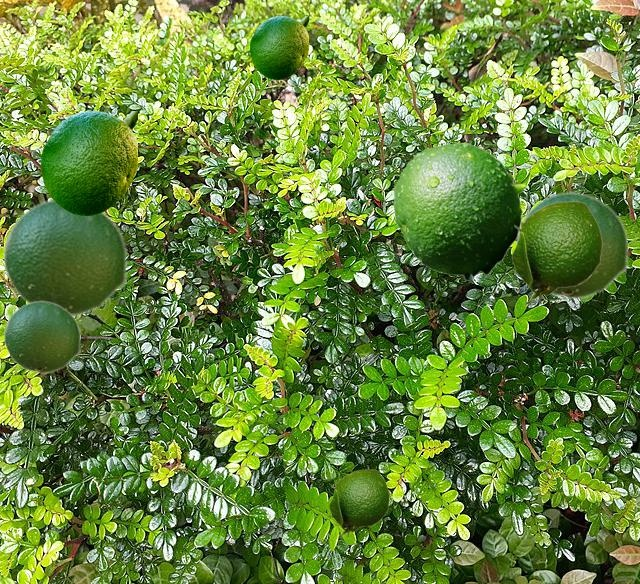dalandan: (393, 142, 526, 280), (2, 197, 127, 317), (515, 191, 628, 299), (41, 111, 136, 214), (510, 201, 601, 304), (3, 300, 80, 373), (328, 469, 388, 537), (250, 16, 307, 78)
